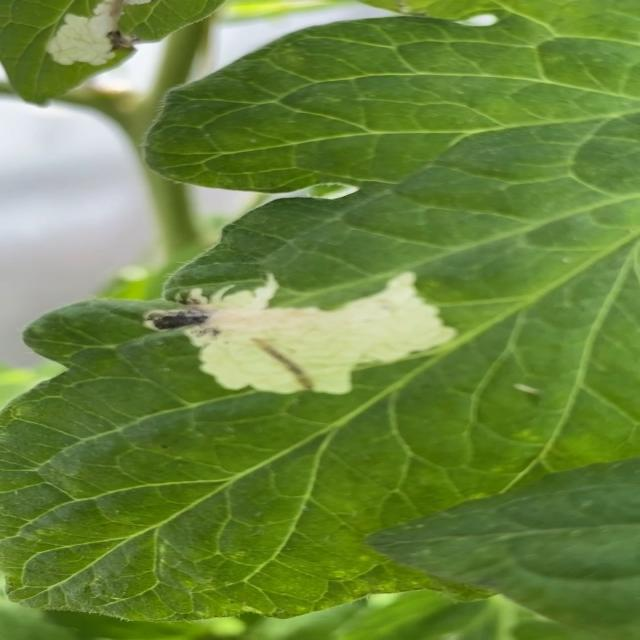Larvae: (252, 339, 313, 390)
